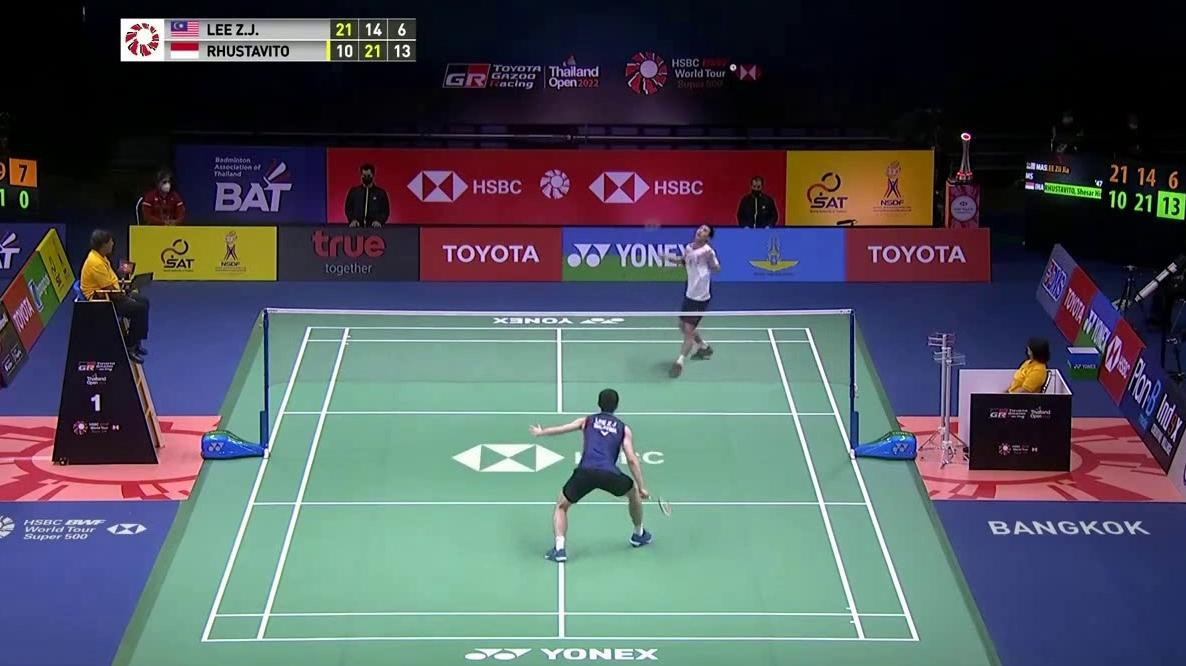racket: (641, 212, 667, 264), (639, 491, 675, 519)
shuttle: (729, 63, 737, 72)
